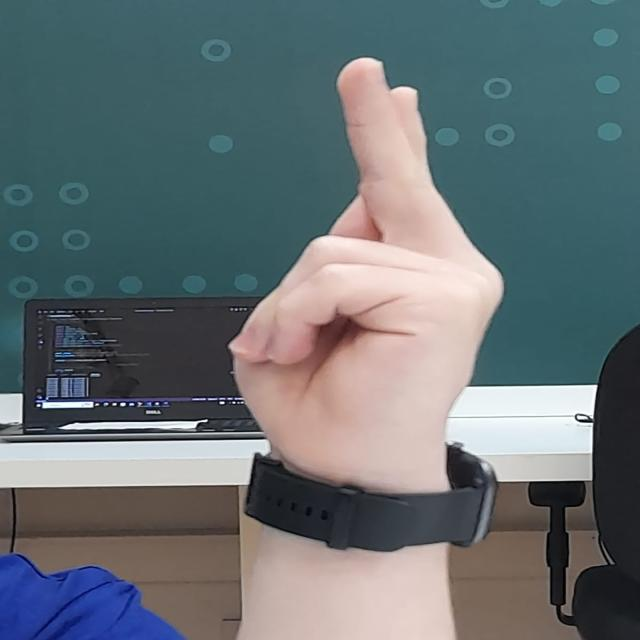K: (227, 50, 512, 446)
